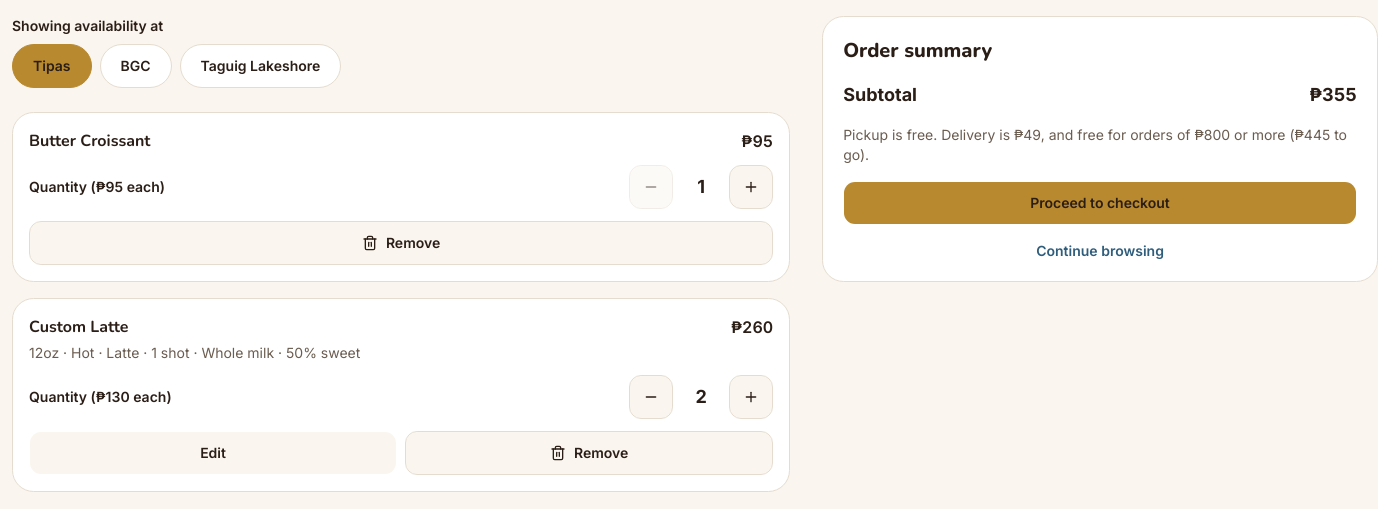
Test: CartView › changes quantities and removes items
The image size is (1378, 509).
Click the button named "Add a piece". click: click(751, 187)
box: [729,165,773,209]
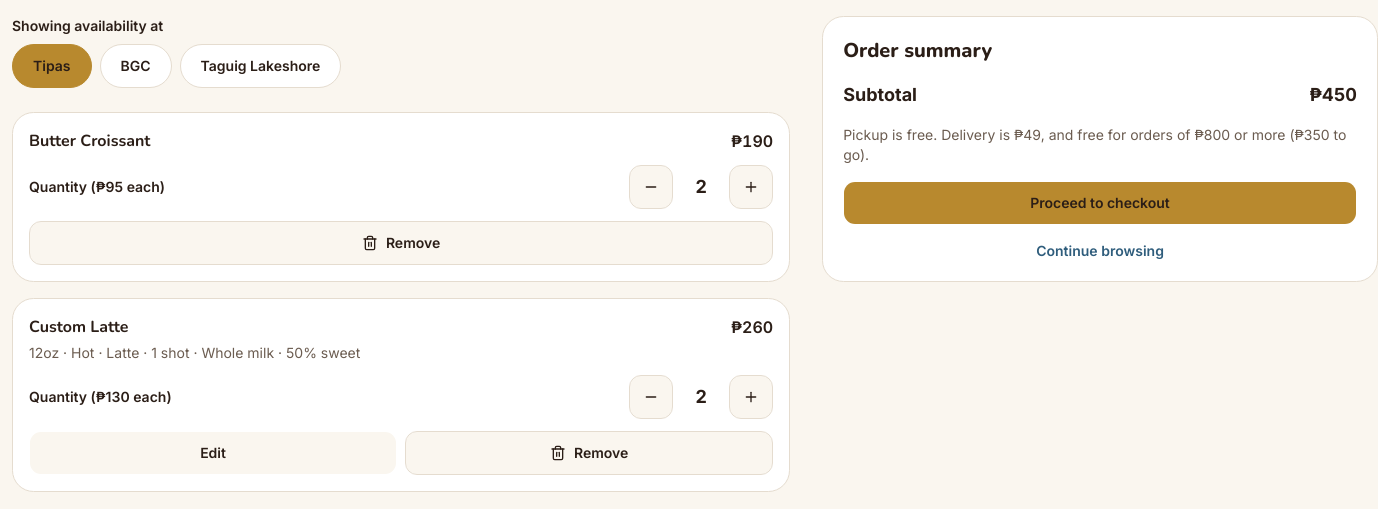
Expected: the text with test id "cart-subtotal" reads "₱450", [1309,84,1357,105]
Click the button with aria-label "Remove Butter Croissant". click: click(401, 243)
box: [29,221,773,265]
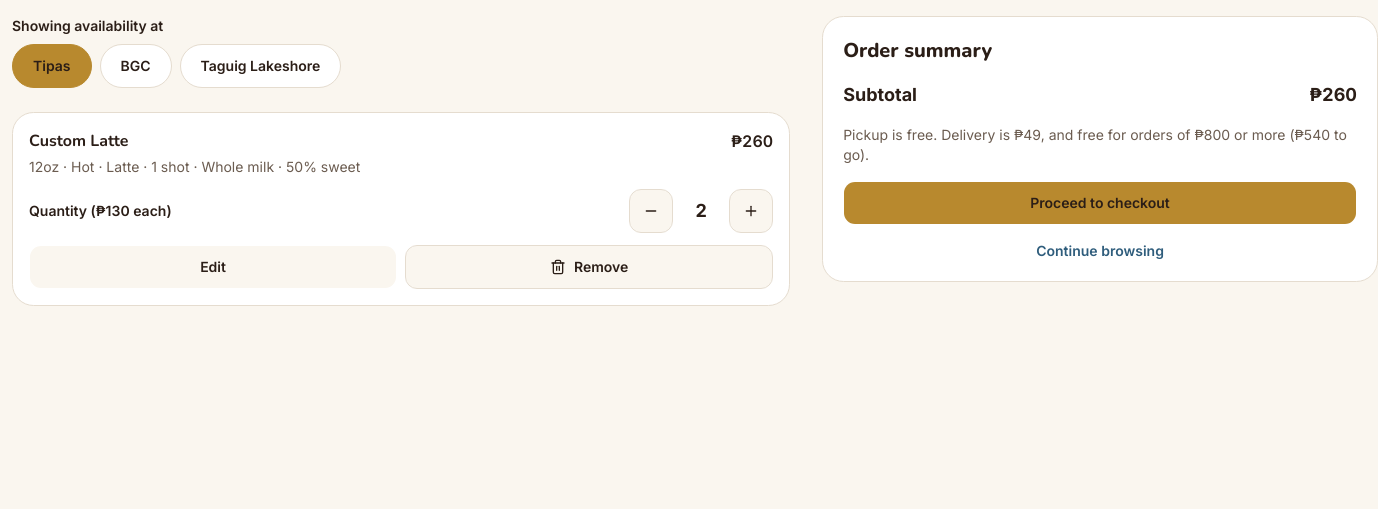
Expected: the number of list items with test id "cart-item" is 1, [12,112,790,306]
